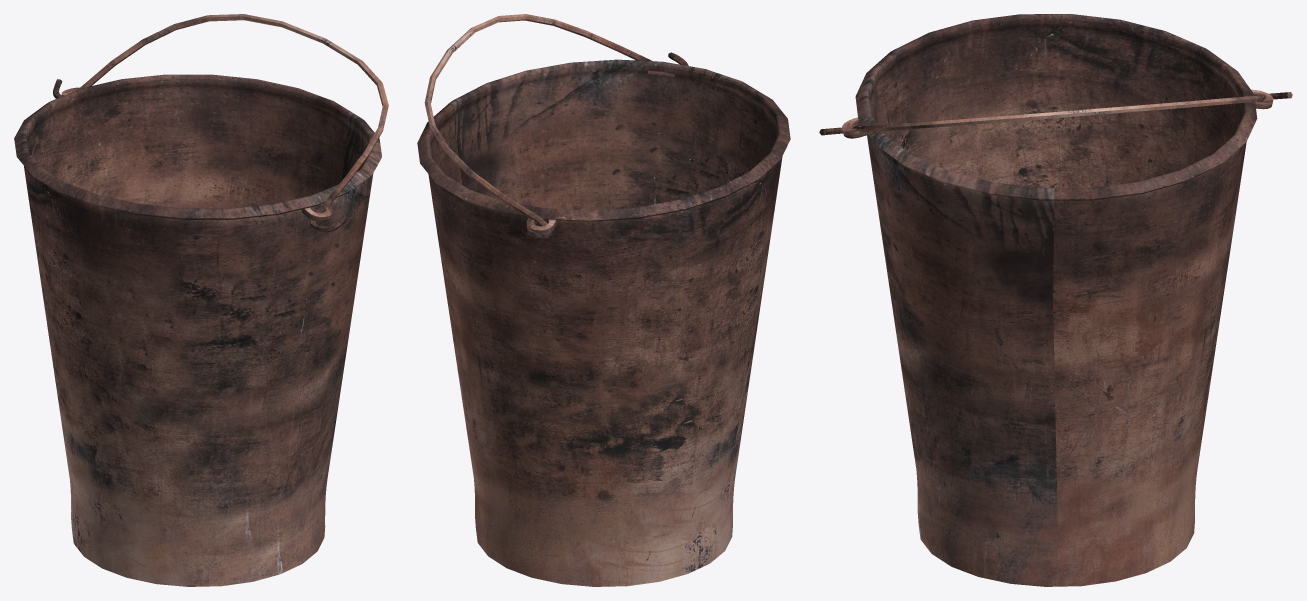
File: bucket.FBX
3 renders of one model, left to right at view 1: azimuth 30°, elevation 25°; view 2: azimuth 150°, elevation 25°; view 3: azimuth 270°, elevation 25°, orthographic. The views are drawn at different scales.
Visible parts, largest first — view 1: bucket; view 2: bucket; view 3: bucket.
Part boxes in pixels (x1,y1,x2,y2): bucket: [14, 14, 388, 586]; bucket: [417, 14, 790, 586]; bucket: [819, 14, 1292, 586].
Size of the model in its own units: 11.69 by 15.88 by 13.78.
1 material, 1 textured.
